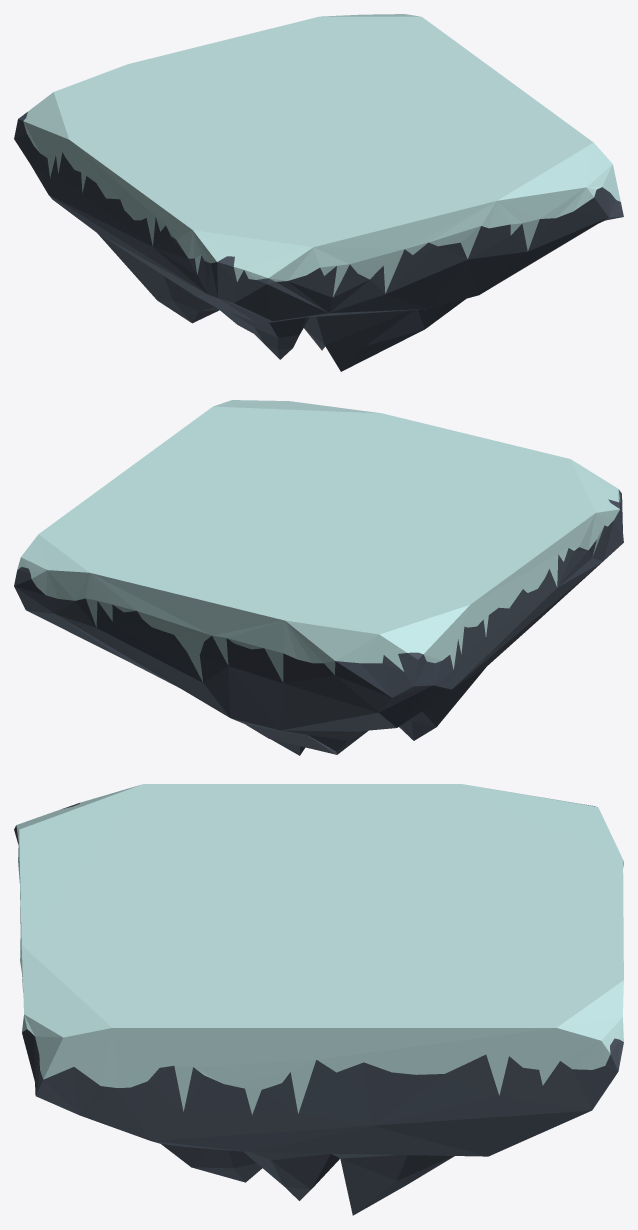
The model's file is doge platform.fbx.
The picture shows the model from 3 angles, top to bottom: view 1: azimuth 30°, elevation 25°; view 2: azimuth 150°, elevation 25°; view 3: azimuth 270°, elevation 25°; orthographic projection. The views are drawn at different scales.
Parts seen in each view (by area): view 1: platform; view 2: platform; view 3: platform.
Boxes of the visible parts, x1,y1,x2,y2 form: platform: [14, 14, 623, 371]; platform: [14, 400, 623, 755]; platform: [14, 784, 623, 1215].
Bounding box in the file's own units: 1443 × 821 × 1509.
